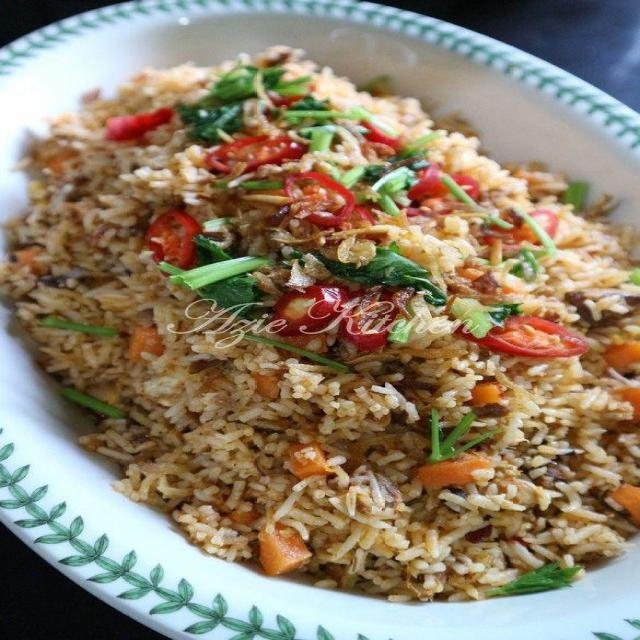Nasi Goreng: (3, 44, 638, 603)
